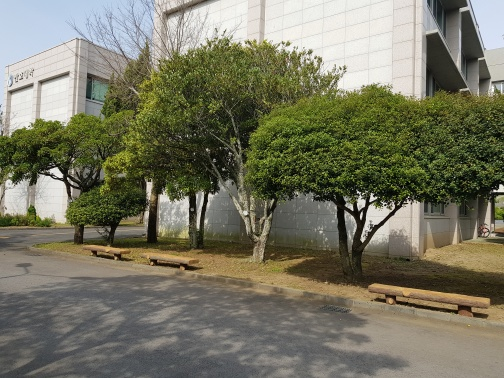College of Nursing: (152, 6, 498, 259), (2, 38, 117, 236)
